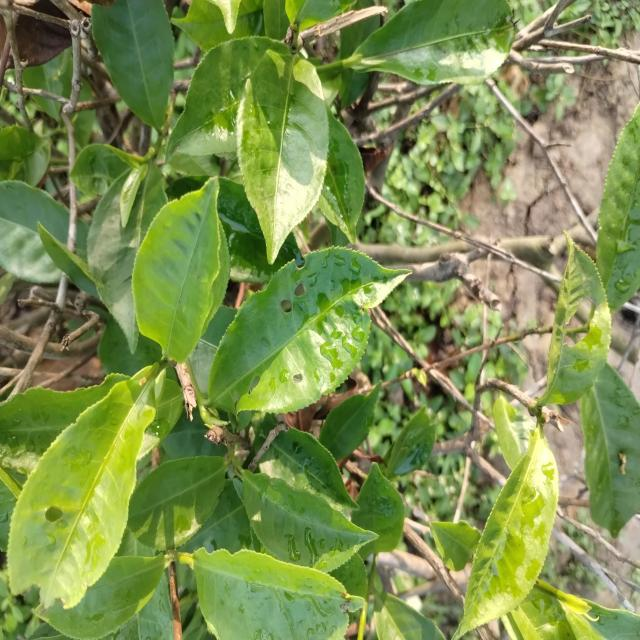Leaf: (7, 379, 155, 607), (208, 247, 406, 414), (453, 428, 558, 640), (236, 49, 329, 263), (133, 178, 222, 363), (190, 548, 362, 640), (87, 164, 167, 353), (166, 37, 286, 161), (345, 0, 515, 85), (243, 470, 377, 572), (0, 374, 128, 475), (538, 236, 611, 406), (36, 555, 164, 640), (92, 0, 174, 129), (580, 363, 640, 537), (127, 456, 227, 550), (596, 104, 640, 310), (218, 178, 298, 283), (258, 428, 355, 510), (0, 180, 69, 284), (319, 113, 365, 242), (352, 462, 404, 557), (319, 382, 381, 461), (172, 0, 265, 51), (38, 223, 98, 296), (503, 587, 575, 640), (374, 587, 445, 640), (70, 144, 140, 197), (138, 380, 183, 459), (386, 408, 435, 477), (561, 601, 640, 640), (494, 396, 535, 470), (0, 125, 50, 185), (430, 521, 481, 571), (23, 50, 70, 95), (286, 0, 355, 29), (34, 96, 60, 117), (255, 418, 273, 445)
